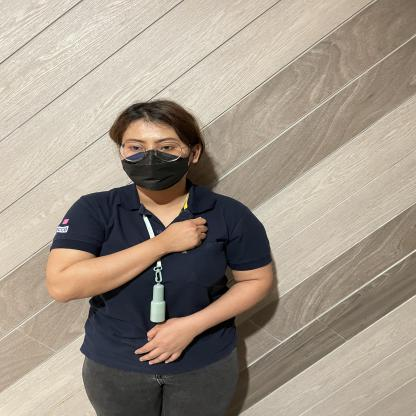Sadness: (87, 201, 248, 265)
